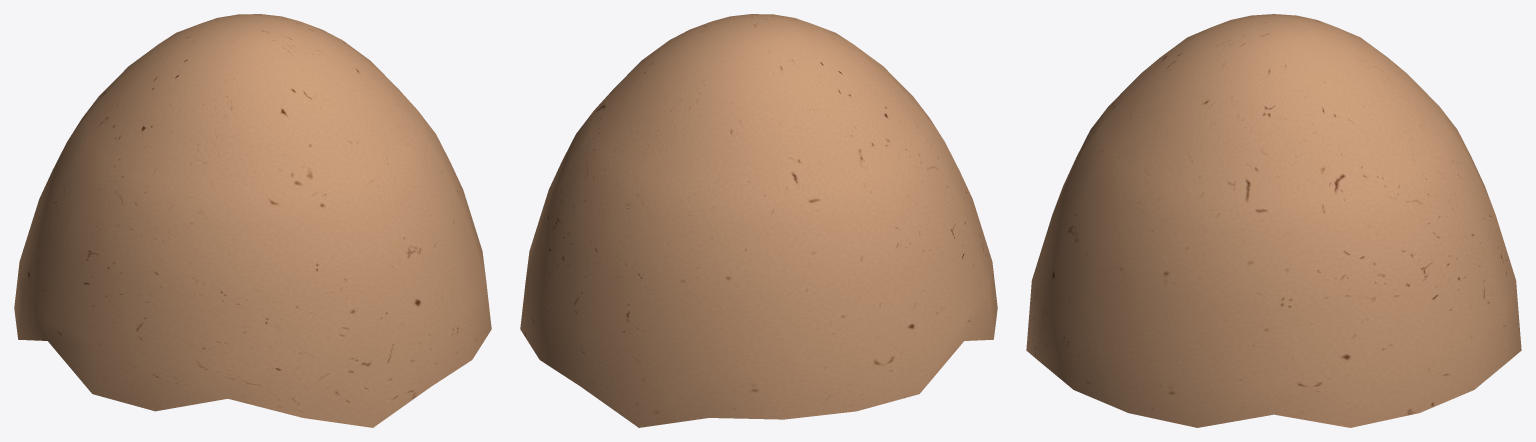
Rendered from EggShell_Top.fbx.
3 views of the same model, side by side, from view 1: azimuth 30°, elevation 25°; view 2: azimuth 150°, elevation 25°; view 3: azimuth 270°, elevation 25° (orthographic). The views are drawn at different scales.
Parts seen in each view (by area): view 1: EggShell_Top; view 2: EggShell_Top; view 3: EggShell_Top.
Part boxes in pixels (left/top/right/bottom): EggShell_Top: left=14, top=14, right=491, bottom=427; EggShell_Top: left=520, top=14, right=997, bottom=427; EggShell_Top: left=1026, top=14, right=1521, bottom=427.
Size of the model in its own units: 10.32 by 7.41 by 10.38.
